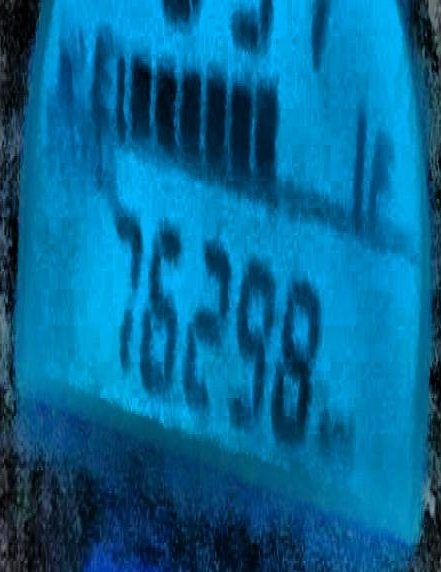2: (190, 230, 227, 407)
6: (144, 217, 179, 400)
7: (107, 192, 137, 377)
8: (276, 264, 314, 459)
9: (233, 249, 271, 432)
X: (365, 111, 400, 215), (89, 13, 113, 115)
